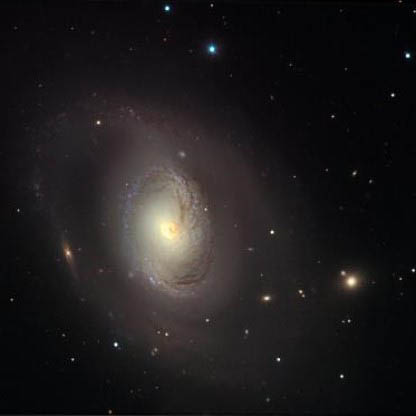Messier 96: (20, 90, 316, 388)
